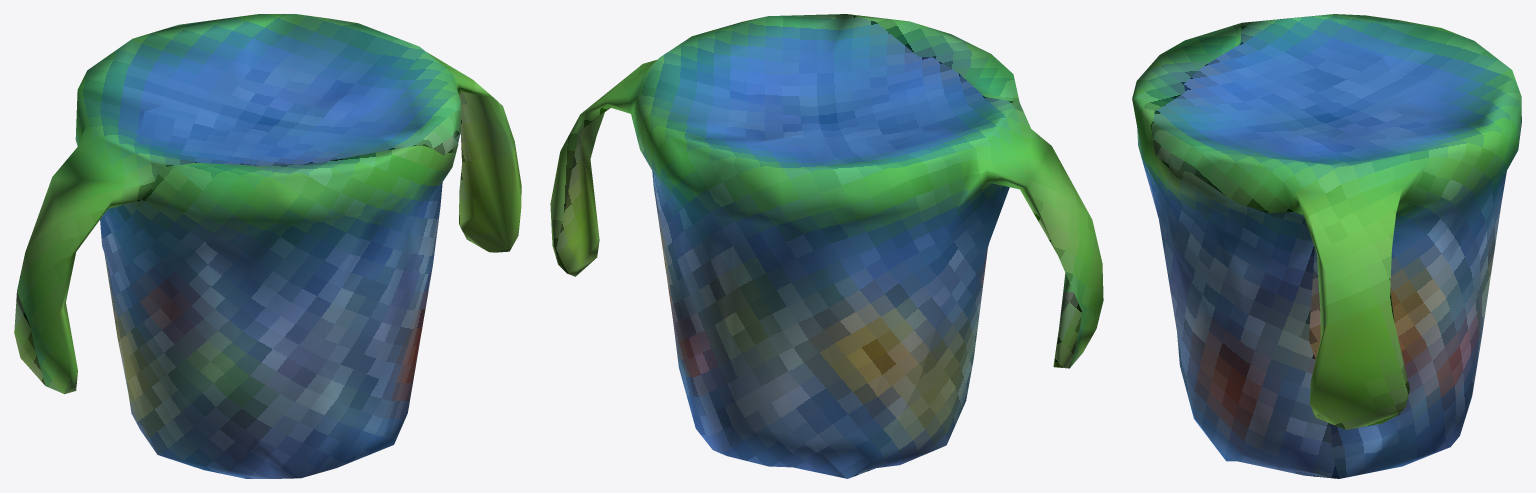
The model's file is Snack_Catcher_Snack_Dispenser-low.glb.
3 views of the same model, side by side, from view 1: azimuth 30°, elevation 25°; view 2: azimuth 150°, elevation 25°; view 3: azimuth 270°, elevation 25° (orthographic).
Parts seen in each view (by area): view 1: Snack_Catcher_Snack_Dispenser; view 2: Snack_Catcher_Snack_Dispenser; view 3: Snack_Catcher_Snack_Dispenser.
Boxes of the visible parts, x1=… form: Snack_Catcher_Snack_Dispenser: x1=14, y1=14, x2=521, y2=478; Snack_Catcher_Snack_Dispenser: x1=550, y1=14, x2=1103, y2=478; Snack_Catcher_Snack_Dispenser: x1=1132, y1=14, x2=1521, y2=478.
Bounding box in the file's own units: 0.1346 × 0.0878 × 0.0905.
Materials: 1 (1 with a texture image).
